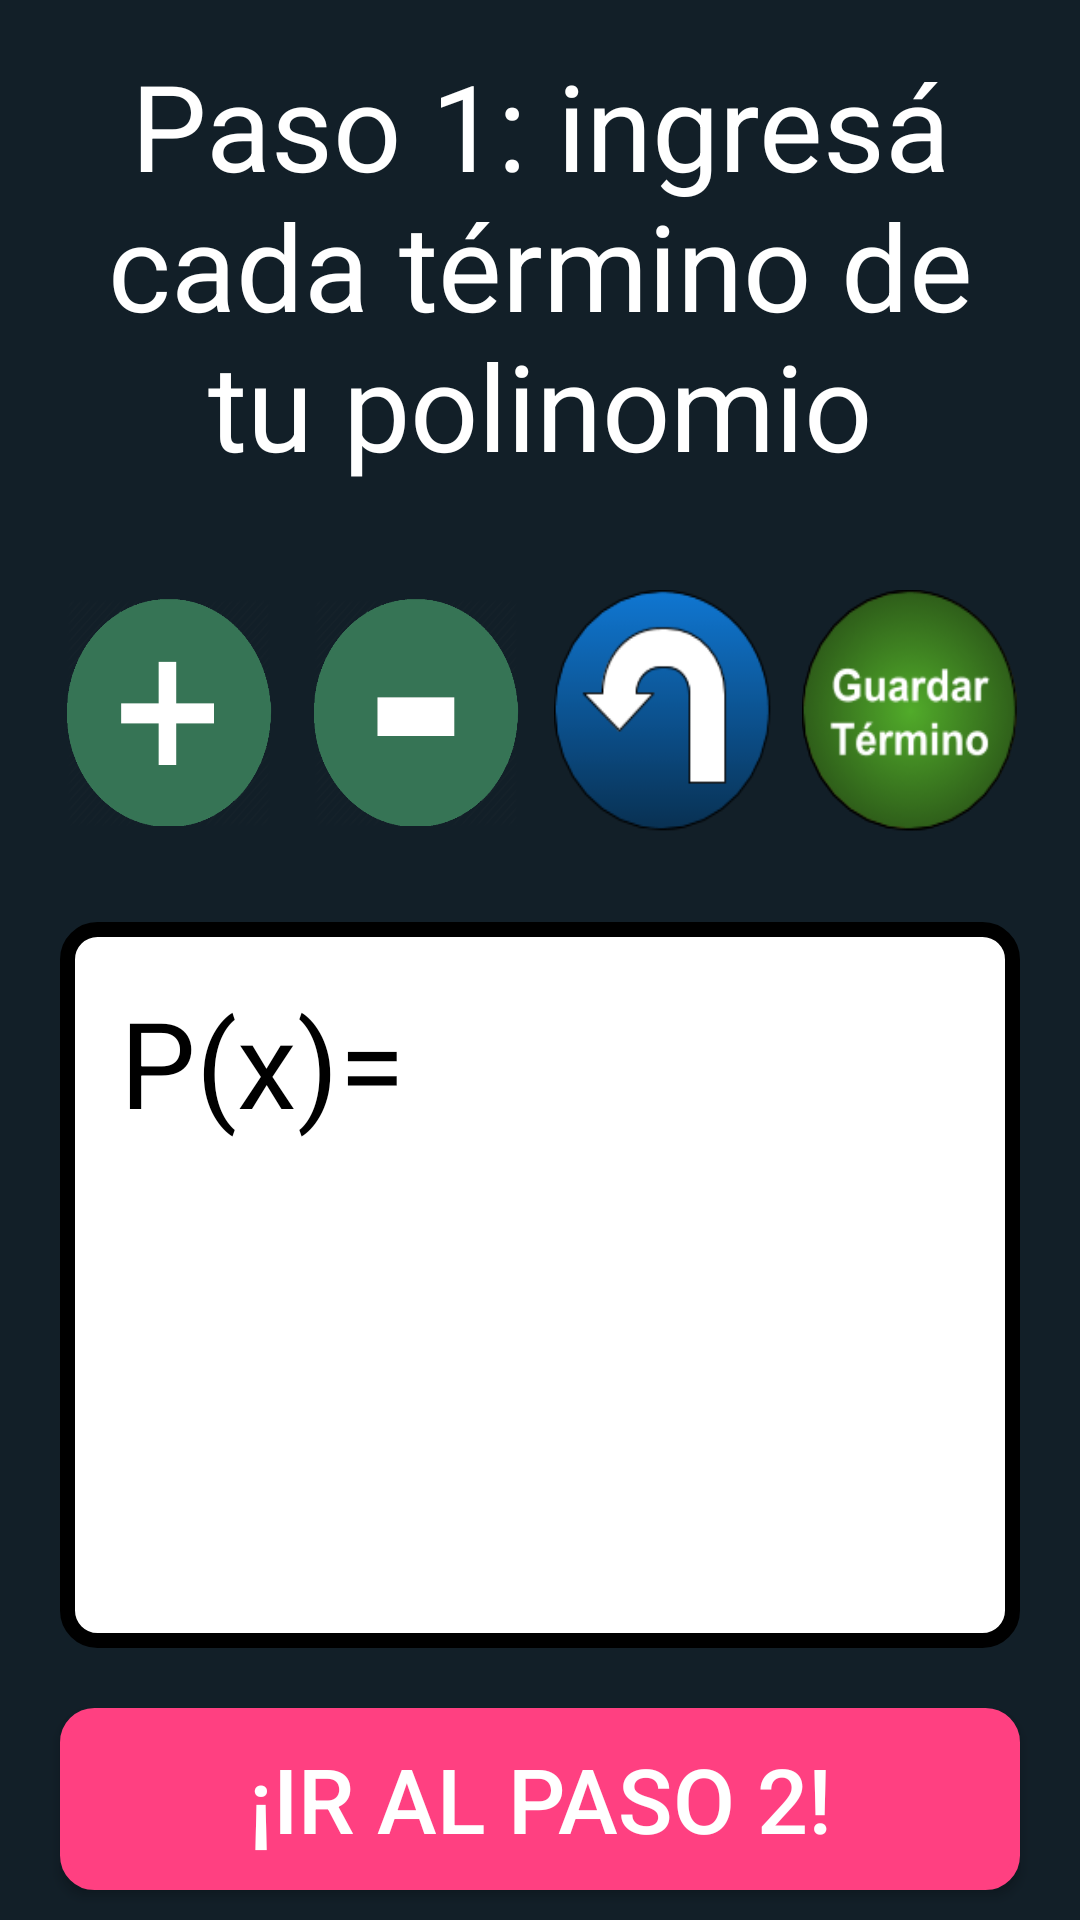

Named icons in this screenshot (1080 × 1920) and their centers, [x,y]:
negative sign: [416,712]
positive sign: [169,712]
